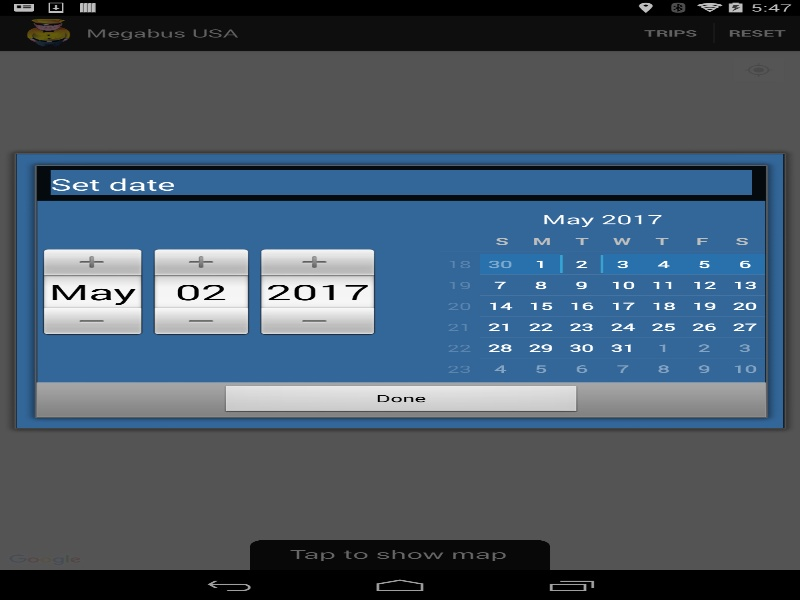Button: (220, 385, 582, 415), (256, 247, 379, 275), (256, 308, 379, 335), (38, 247, 146, 275), (38, 308, 146, 335), (149, 247, 253, 275), (149, 308, 253, 335)
Input: (256, 275, 379, 308), (38, 275, 146, 308), (149, 275, 253, 308)
